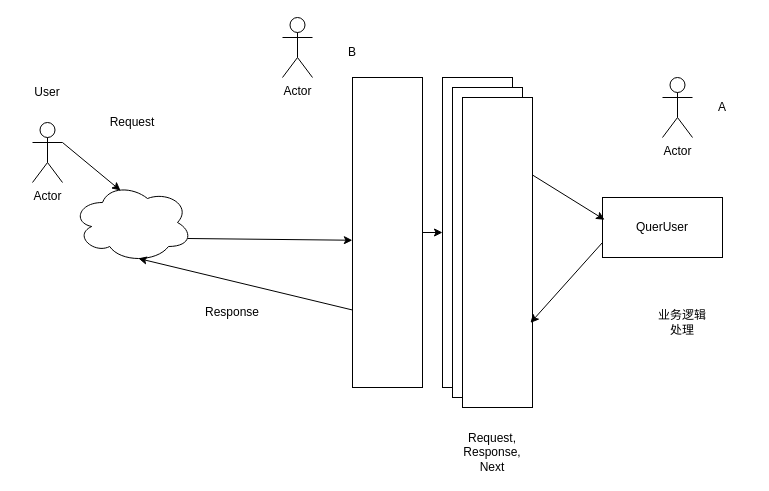
The diagram is 769 pixels wide and 491 high, and some of its shapes have lost their labels. Here are the shapes that lost their labels. From the top down, the centre of each, then its label:
point 387,232: API Server
point 497,252: 中间件 ...
